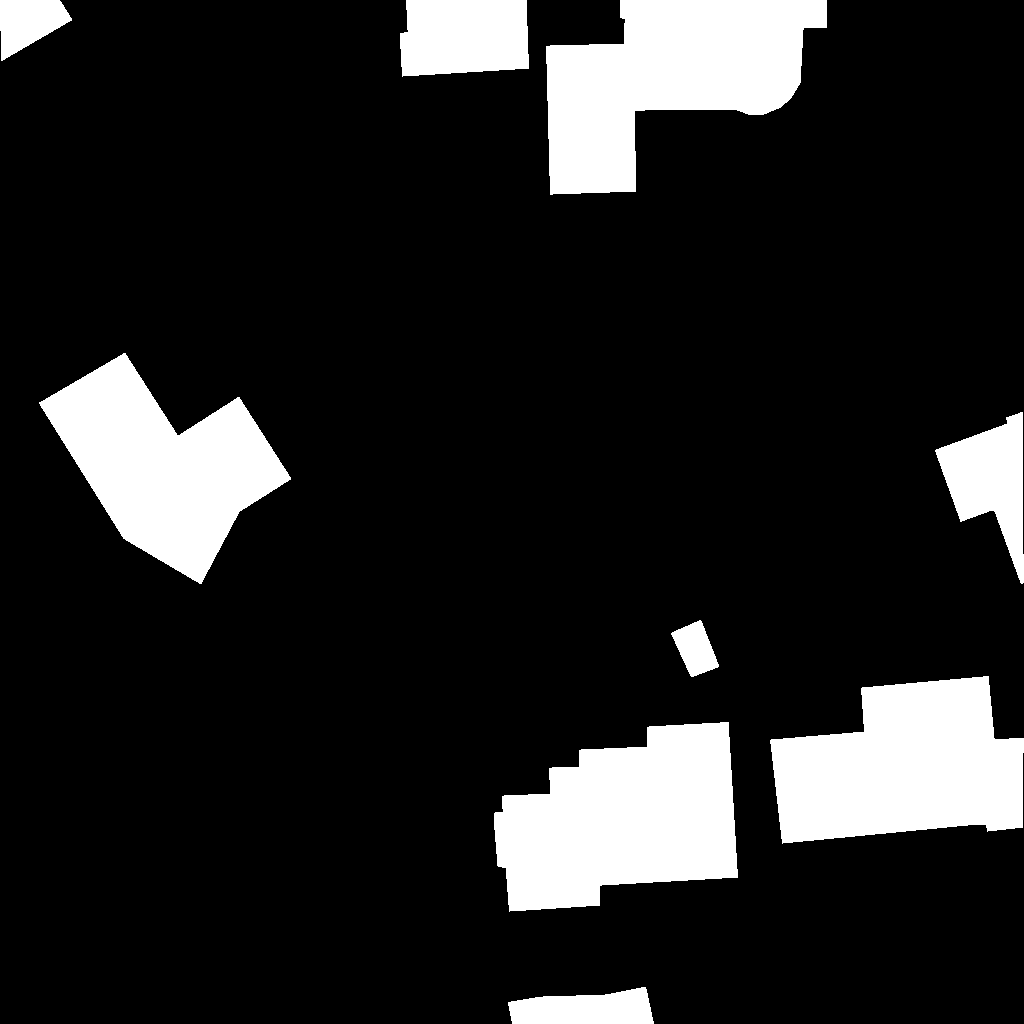building: (39, 353, 292, 585), (546, 0, 827, 195), (494, 722, 739, 912), (770, 676, 1024, 844), (935, 412, 1024, 585), (400, 0, 530, 77), (508, 987, 655, 1024), (0, 0, 73, 62), (671, 620, 720, 678)
